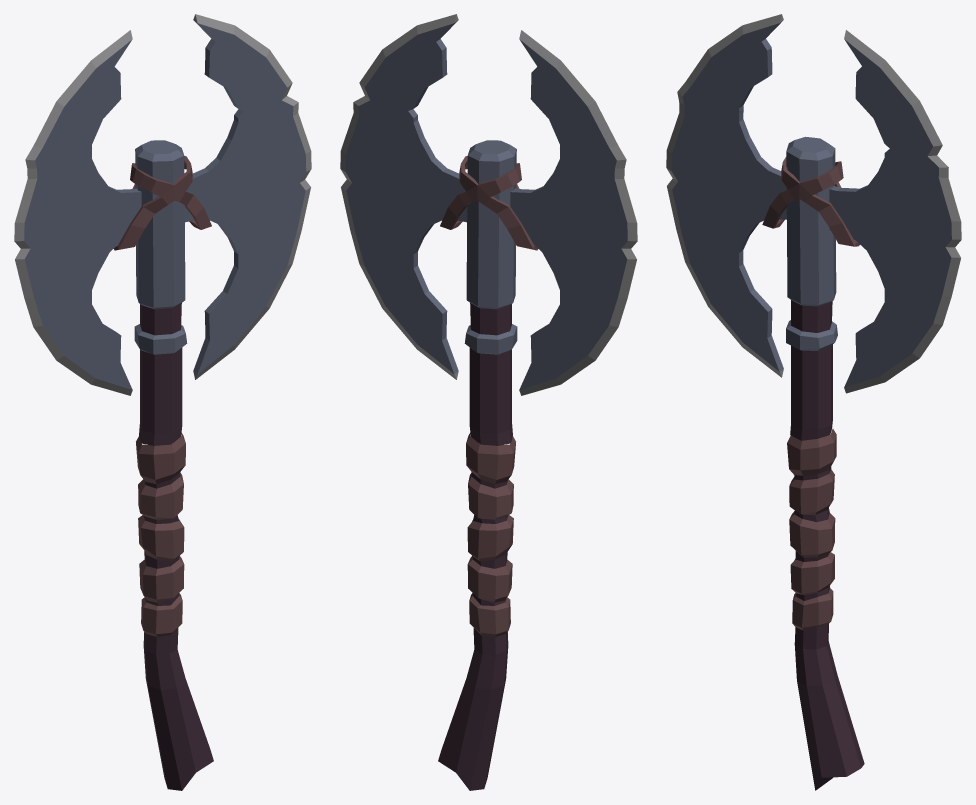
Rendered from Axe_Double.glb.
3 views of the same model, side by side, from view 1: azimuth 30°, elevation 25°; view 2: azimuth 150°, elevation 25°; view 3: azimuth 330°, elevation 25° (orthographic).
Parts seen in each view (by area): view 1: Axe_Double_Cylinder.032; view 2: Axe_Double_Cylinder.032; view 3: Axe_Double_Cylinder.032.
Part boxes in pixels (x1,y1,x2,y2): Axe_Double_Cylinder.032: [14, 14, 311, 790]; Axe_Double_Cylinder.032: [340, 14, 637, 790]; Axe_Double_Cylinder.032: [666, 14, 961, 790].
Bounding box in the file's own units: 0.8712 × 2.15 × 0.1355.
